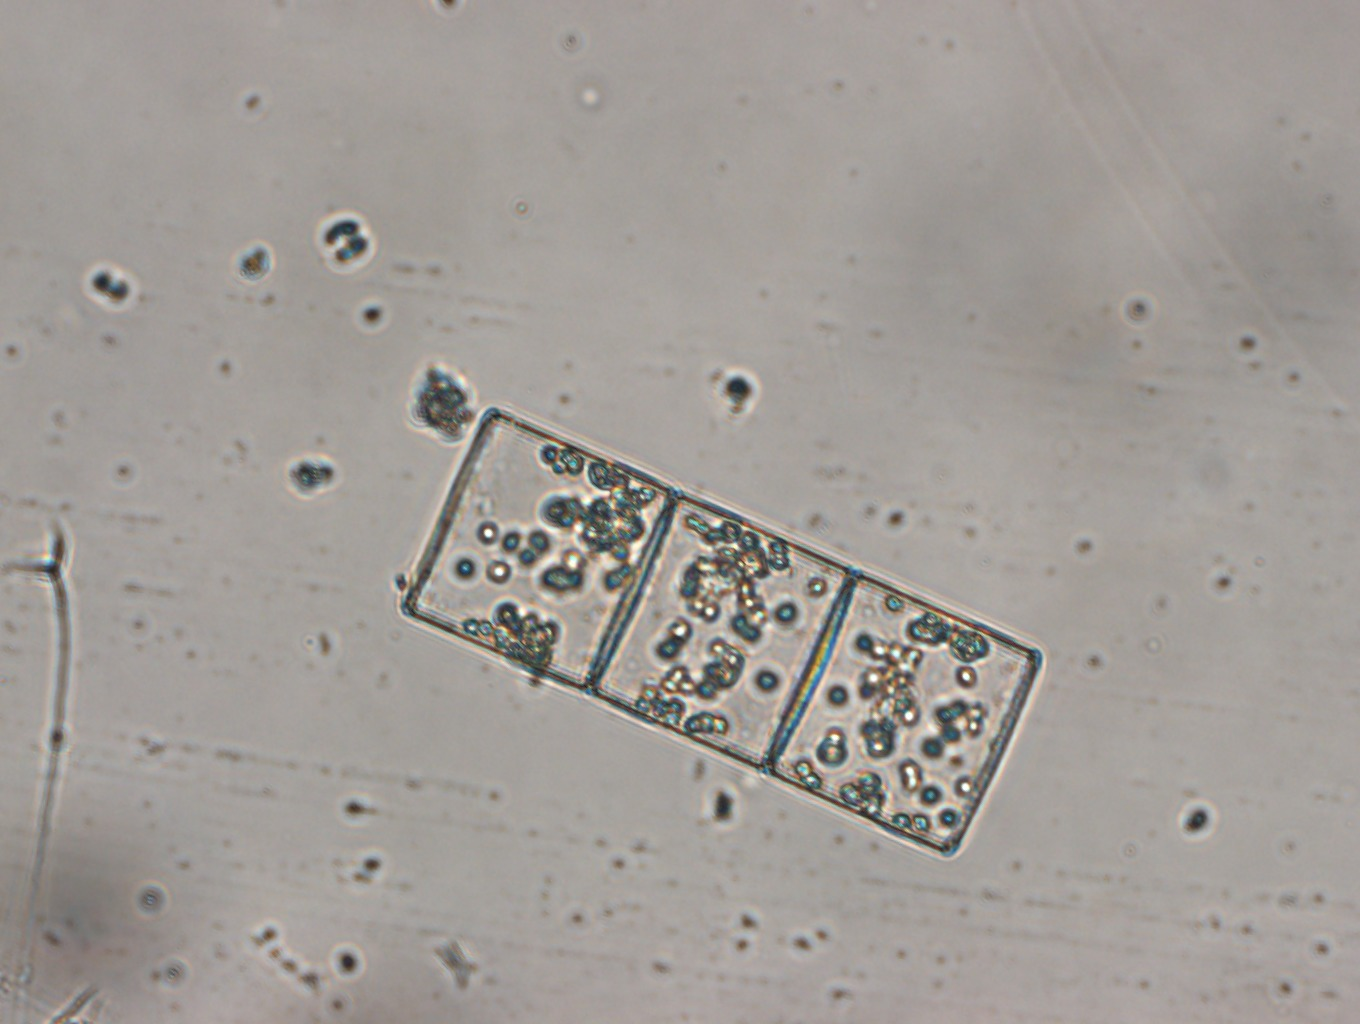guinardia flaccida: (397, 406, 1046, 870)
